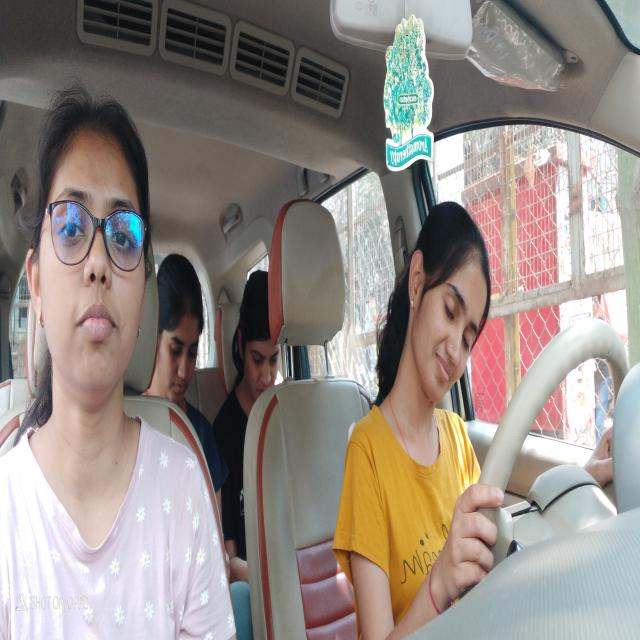drowsy: (403, 192, 496, 404)
person: (24, 78, 150, 425), (156, 247, 206, 413), (235, 260, 285, 418)
